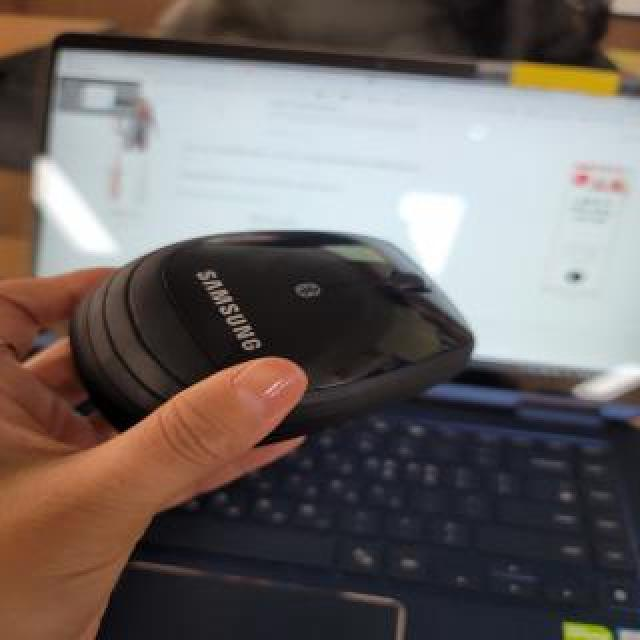laptop_computer: (34, 21, 640, 640)
mouse: (69, 224, 491, 455)
